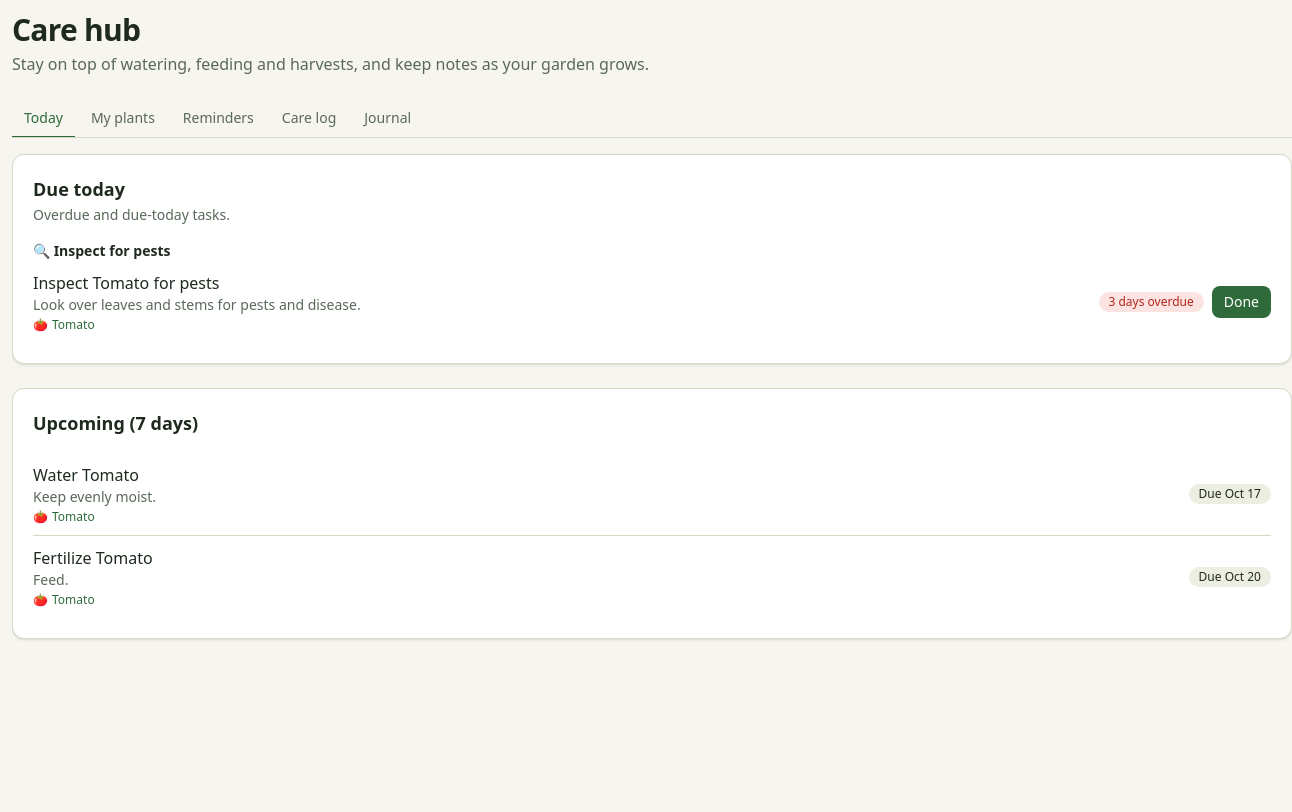
Test case: CarePage › My plants › shows computed watering and feeding cadence and last care dates
Click the tab "My plants" at (123, 119), box [79,100,167,138]
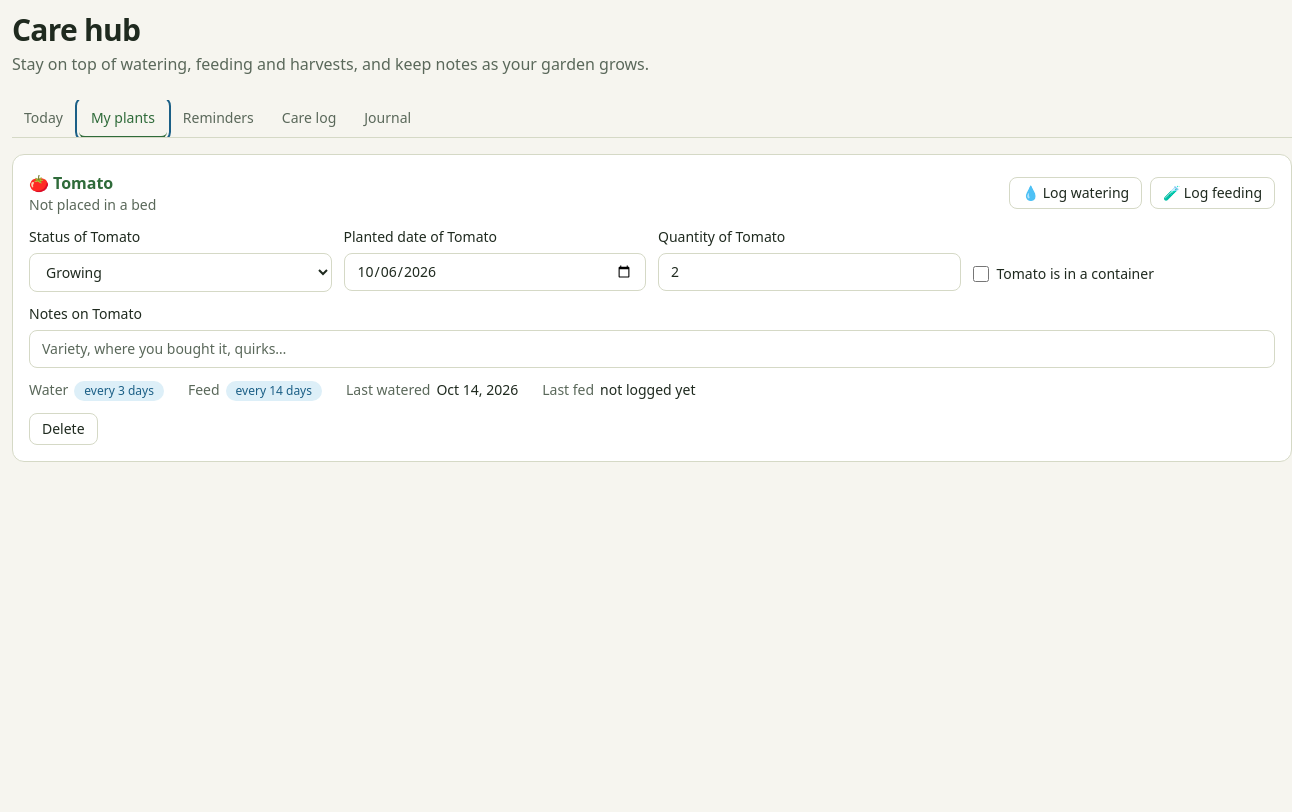
Expected: the text "every 3 days" is shown, [74,381,164,401]
Expected: the text "every 14 days" is shown, [226,381,322,401]
Expected: the text "not logged yet" is shown once, [600,380,696,401]
